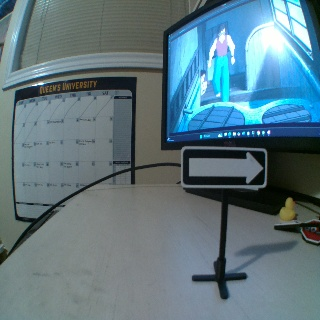sign_oneway_right: (179, 146, 266, 187)
